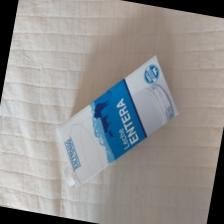Kertas: (56, 56, 176, 185)
